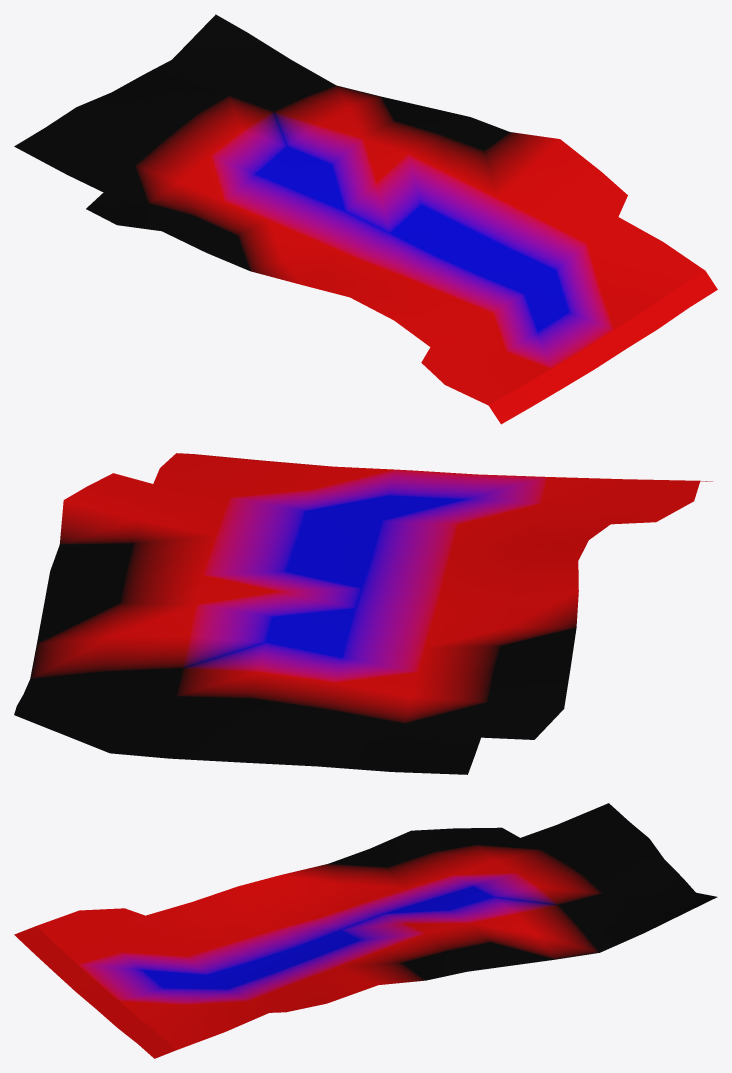
File: Ground_Z7.FBX
The picture shows the model from 3 angles, top to bottom: view 1: azimuth 30°, elevation 25°; view 2: azimuth 150°, elevation 25°; view 3: azimuth 270°, elevation 25°; orthographic projection. The views are drawn at different scales.
Visible parts, largest first — view 1: Plane001; view 2: Plane001; view 3: Plane001.
Part boxes in pixels (<box>): Plane001: <box>14,14,717,424</box>; Plane001: <box>14,453,712,774</box>; Plane001: <box>14,803,717,1058</box>.
Bounding box in the file's own units: 2376 × 488 × 3603.
